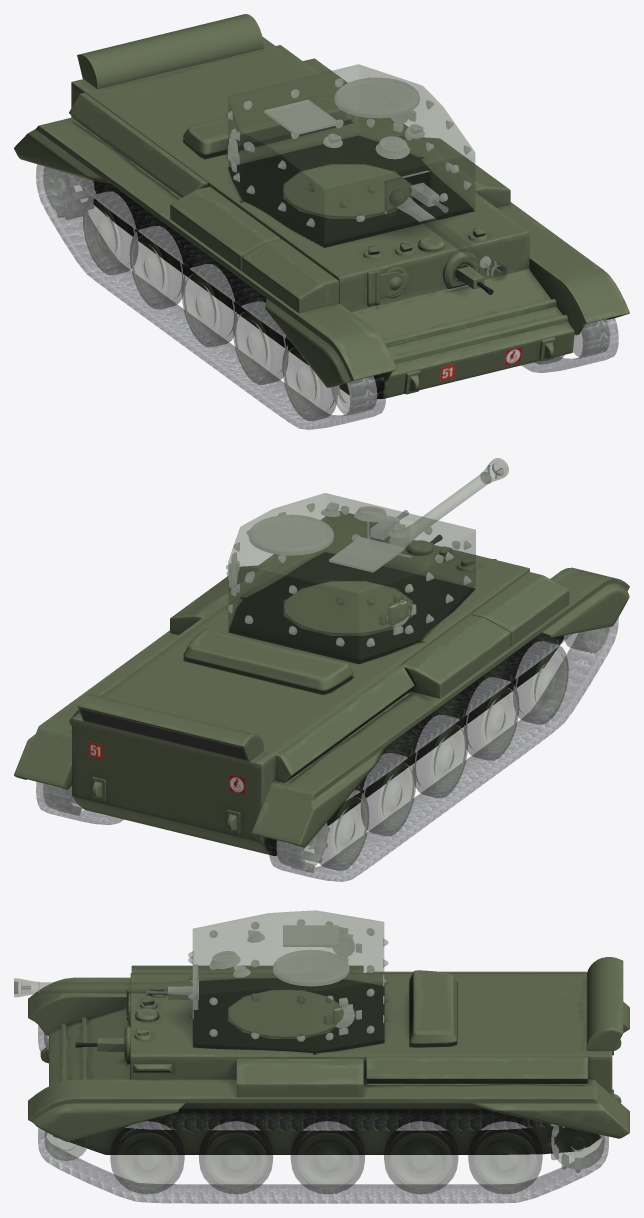
The model's file is tankv004.gltf.
3 views of the same model, one above another, from view 1: azimuth 30°, elevation 25°; view 2: azimuth 150°, elevation 25°; view 3: azimuth 270°, elevation 25° (orthographic). The views are drawn at different scales.
Visible parts, largest first — view 1: 14079_WWII_Tank_UK_Cromwell_v1_L2; view 2: 14079_WWII_Tank_UK_Cromwell_v1_L2; view 3: 14079_WWII_Tank_UK_Cromwell_v1_L2.
Part boxes in pixels (x1,y1,x2,y2): 14079_WWII_Tank_UK_Cromwell_v1_L2: [14, 14, 629, 429]; 14079_WWII_Tank_UK_Cromwell_v1_L2: [14, 458, 629, 881]; 14079_WWII_Tank_UK_Cromwell_v1_L2: [14, 910, 629, 1203].
Bounding box in the file's own units: 1.5 × 1.11 × 3.12.
3 materials, 3 textured.
